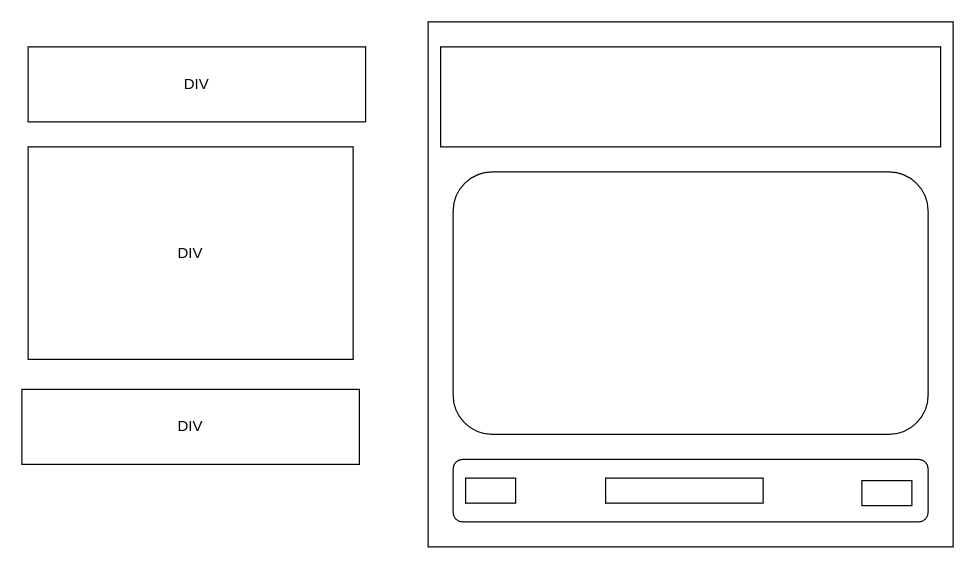
The diagram is 975 pixels wide and 569 high, and some of its shapes have lost their labels. The centre of each missing label's shape, as x and y in pixels:
"HEADER" goes at (690,96).
"MAIN" goes at (690,302).
